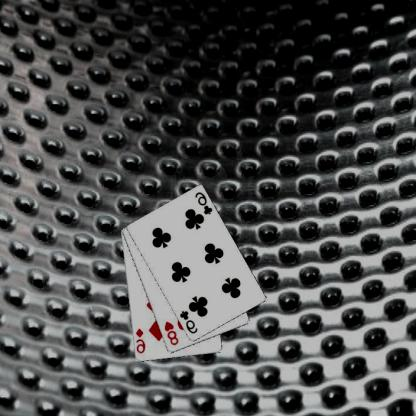6C: (178, 309, 200, 335), (195, 190, 215, 216)
8H: (164, 319, 181, 347)
9D: (134, 326, 148, 355)
